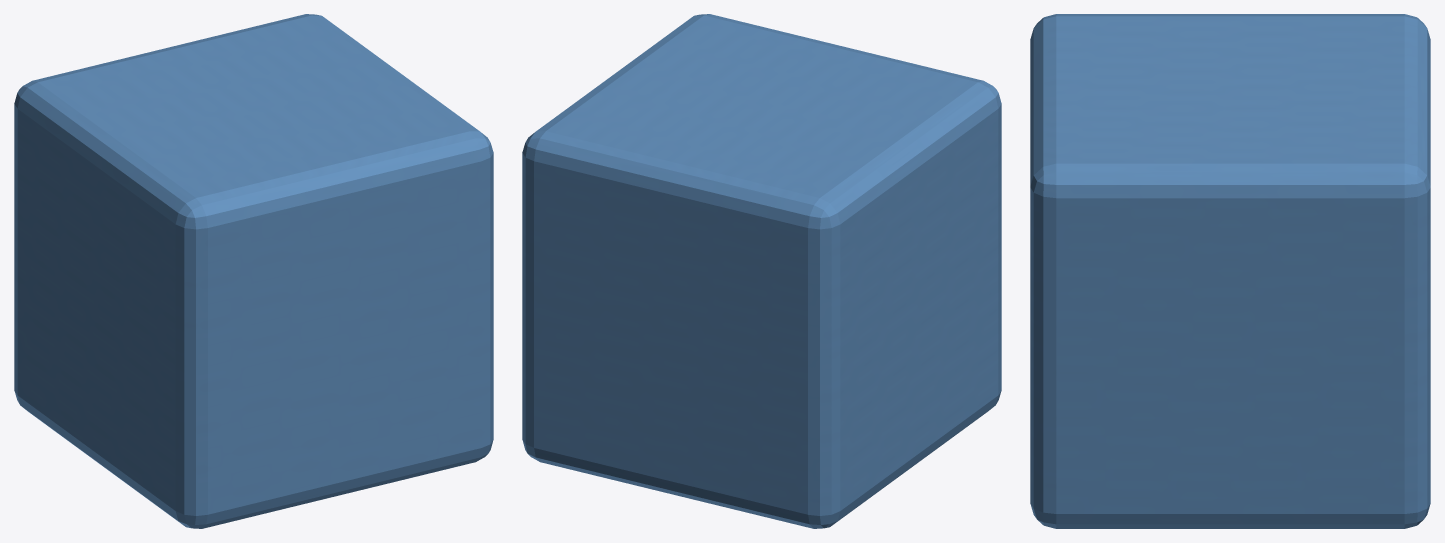
3 renders of one model, left to right at view 1: azimuth 30°, elevation 25°; view 2: azimuth 150°, elevation 25°; view 3: azimuth 270°, elevation 25°, orthographic. The views are drawn at different scales.
Parts seen in each view (by area): view 1: Cube_Render; view 2: Cube_Render; view 3: Cube_Render.
Boxes of the visible parts, bbox=[...] form: Cube_Render: bbox=[14, 14, 493, 528]; Cube_Render: bbox=[522, 14, 1001, 528]; Cube_Render: bbox=[1030, 14, 1430, 528].
Bounding box in the file's own units: 0.385 × 0.385 × 0.385.
Materials: 1 (1 with a texture image).
